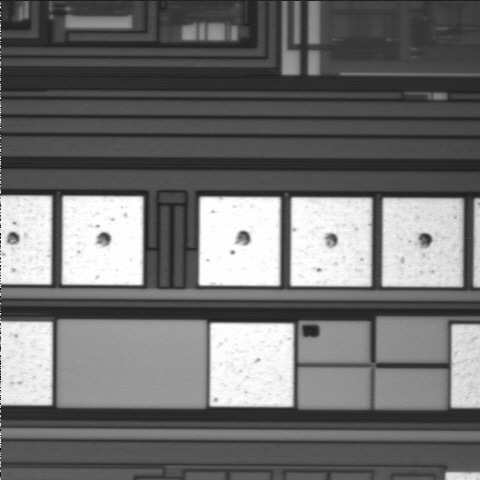pad: (199, 197, 281, 286), (290, 197, 372, 286), (62, 196, 143, 285), (382, 198, 463, 287), (210, 323, 294, 407)
